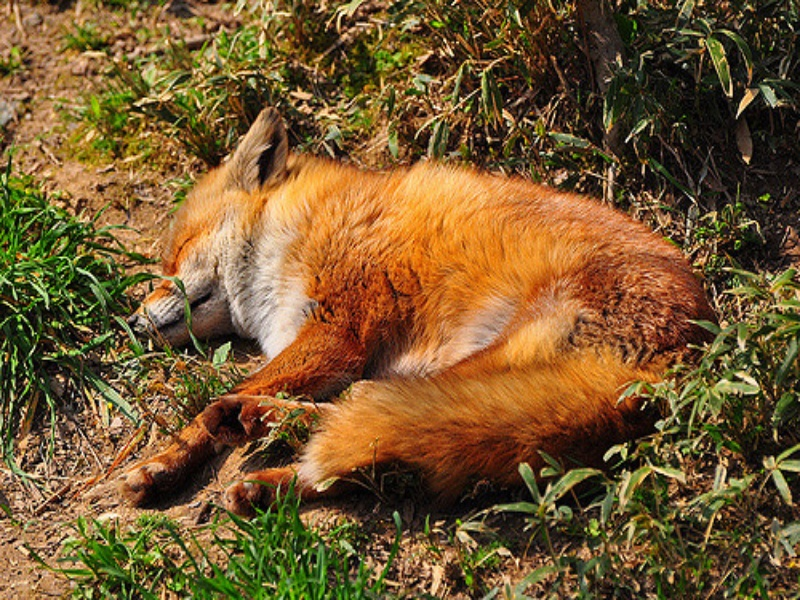fox: (130, 109, 738, 511)
